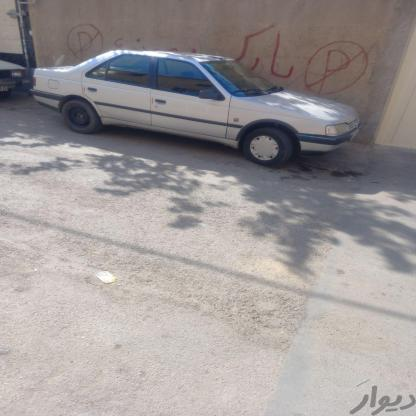Car: (28, 47, 365, 165), (0, 39, 43, 114)
